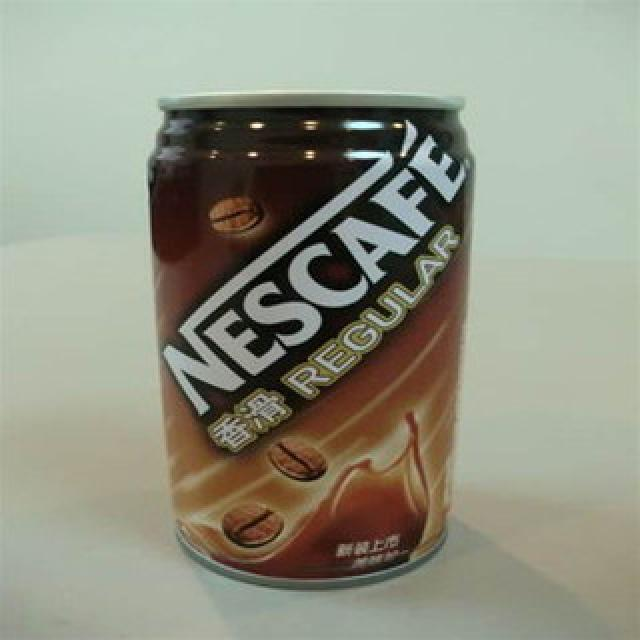can: (146, 89, 480, 597)
